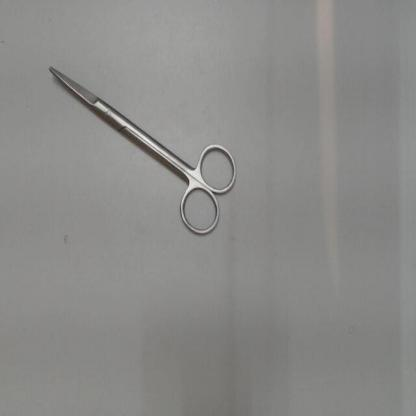Curved Mayo Scissors: (43, 57, 244, 243)
